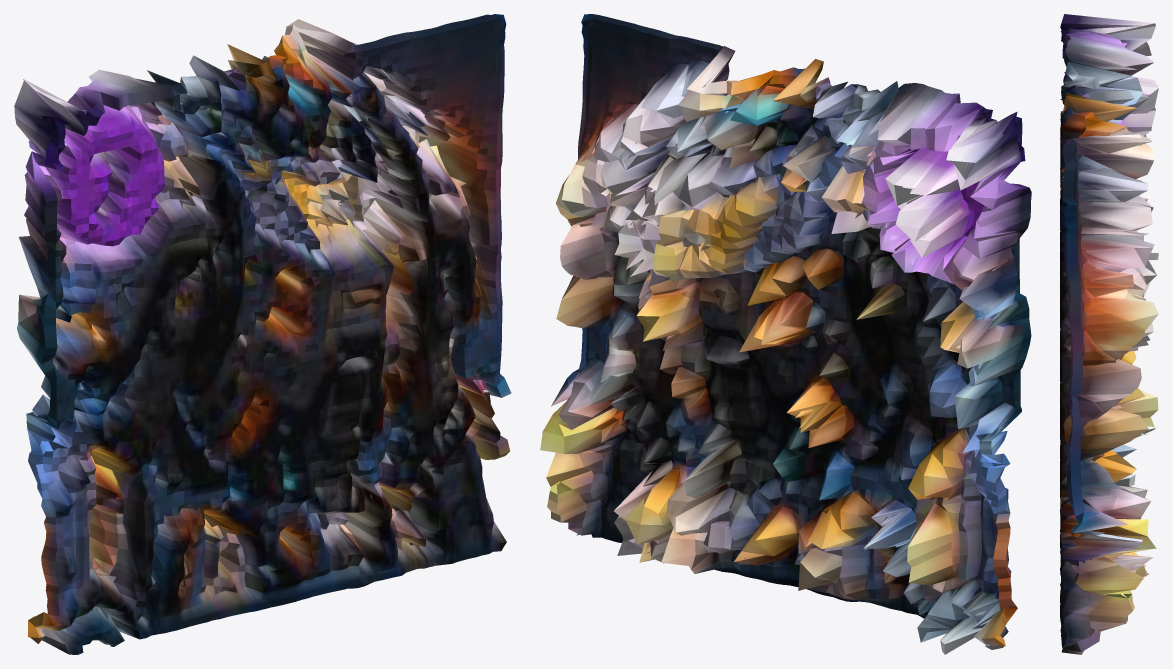
The model's file is titan-r9-relief.glb.
The picture shows the model from 3 angles, left to right: view 1: azimuth 30°, elevation 25°; view 2: azimuth 150°, elevation 25°; view 3: azimuth 270°, elevation 25°; orthographic projection. The views are drawn at different scales.
Visible parts, largest first — view 1: RELIEF_REFERENCE_titan-r9; view 2: RELIEF_REFERENCE_titan-r9; view 3: RELIEF_REFERENCE_titan-r9.
Part boxes in pixels (box(x1,y1,x2,y2)): RELIEF_REFERENCE_titan-r9: box(14, 14, 511, 654); RELIEF_REFERENCE_titan-r9: box(540, 14, 1031, 654); RELIEF_REFERENCE_titan-r9: box(1060, 14, 1158, 654).
Size of the model in its own units: 3.15 by 3.52 by 0.6752.
1 material, 1 textured.
